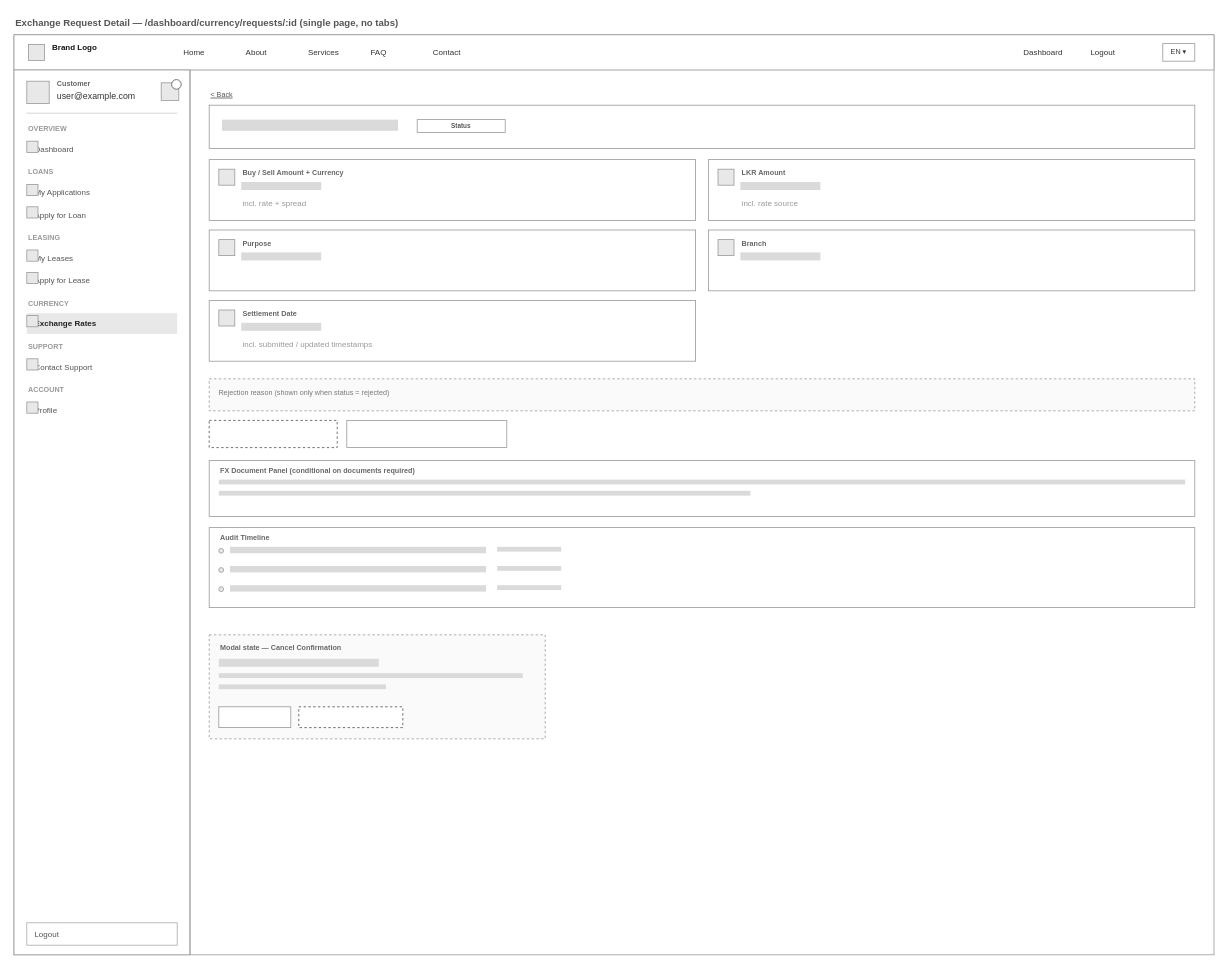
The diagram is 1229 pixels wide and 970 high, and some of its shapes have lost their labels. The shapes that lost their labels are listed below. From the top down, each one's centre as x and y in pixels, then its label:
[272,434]: Cancel Request
[426,434]: Print Settlement Slip
[254,717]: Keep
[350,717]: Confirm Cancel
